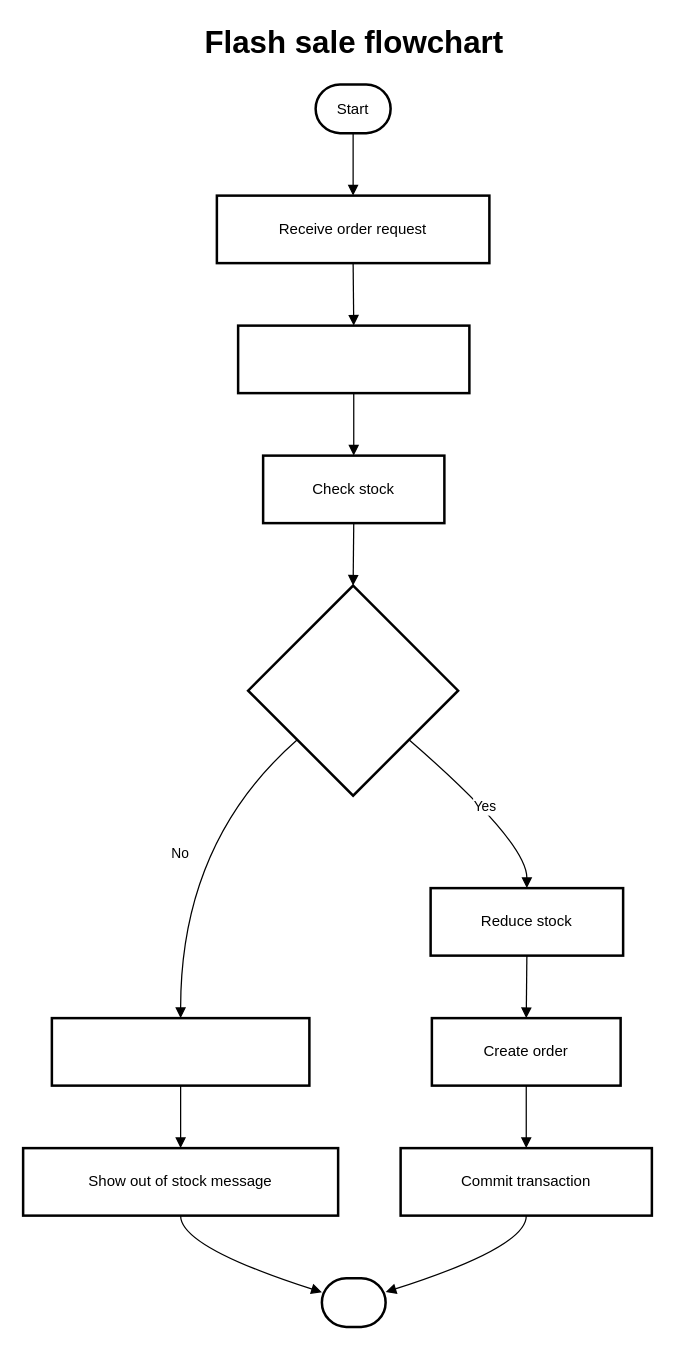
The diagram is 674 pixels wide and 1349 high, and some of its shapes have lost their labels. The shapes that lost their labels are listed below. From the top down, each one's box as (x1, y1, x2, y2) in pixels, then its label:
(236, 324, 470, 394): Begin transaction
(246, 584, 459, 796): Stock available?
(50, 1016, 310, 1086): Rollback transaction
(320, 1276, 386, 1328): End
